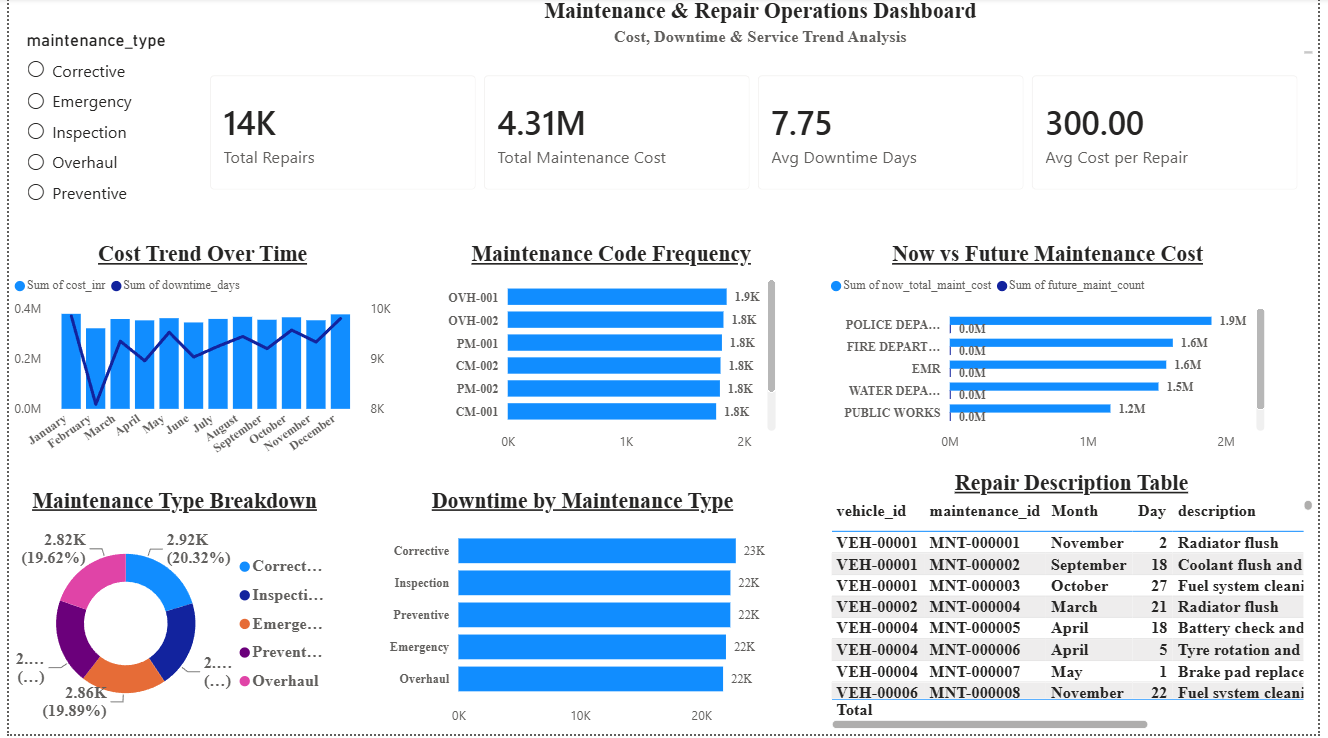

What the dashboard file says about the page in this screenshot:
{"tool":"powerbi","page":{"name":"mainteance","canvas":[1280,720],"ordinal":3},"visuals":[{"type":"donutChart","title":"Maintenance Type Breakdown","fields":{"Category":["maintenance_records.maintenance_type"],"Y":["CountNonNull(maintenance_records.maintenance_id)"]},"box":[0,478.9,323.8,241.5],"z":0},{"type":"lineClusteredColumnComboChart","title":"Cost Trend Over Time","fields":{"Category":["maintenance_records.maintenance_date.Variation.Date Hierarchy.Month"],"Y":["Sum(maintenance_records.cost_inr)"],"Y2":["Sum(maintenance_records.downtime_days)"]},"box":[0,238.8,378.7,223.7],"z":1000},{"type":"barChart","title":"Maintenance Code Frequency","fields":{"Category":["maintenance_records.maintenance_code"],"Y":["CountNonNull(maintenance_records.maintenance_id)"]},"box":[422.6,238.8,332.1,214.1],"z":2000},{"type":"clusteredBarChart","title":"Now vs Future Maintenance Cost","fields":{"Y":["Sum(maintenance_records.now_total_maint_cost)","Sum(maintenance_records.future_maint_count)"],"Category":["vehicles.department"]},"box":[798.6,238.8,435,214.1],"z":3000},{"type":"barChart","title":"Downtime by Maintenance Type","fields":{"Y":["Sum(maintenance_records.downtime_days)"],"Category":["maintenance_records.maintenance_type"]},"box":[366.4,478.9,388.3,241.5],"z":4000},{"type":"tableEx","title":"Repair Description Table","fields":{"Values":["maintenance_records.vehicle_id","maintenance_records.maintenance_id","maintenance_records.maintenance_date.Variation.Date Hierarchy.Month","maintenance_records.maintenance_date.Variation.Date Hierarchy.Day","maintenance_records.description","Sum(maintenance_records.cost_inr)"]},"box":[798.6,462.4,481.6,258],"z":5000},{"type":"textbox","title":" Maintenance & Repair Operations Dashboard","box":[189.4,0,1090.9,59],"z":6000},{"type":"cardVisual","fields":{"Data":["maintenance_records.Total Repairs","maintenance_records.Total Maintenance Cost","maintenance_records.Avg Downtime Days","maintenance_records.Avg Cost per Repair"]},"box":[179.8,59,1100.5,146.8],"z":7000},{"type":"listSlicer","fields":{"Values":["maintenance_records.maintenance_type"]},"box":[12.3,30.2,149.6,196.2],"z":7001}]}

Visuals, with their boxes in screenshot pixels (x1, y1, x2, y2), scaled from the page's 1280x720 canvas onto the 1328x738 screenshot:
"Maintenance Type Breakdown" donutChart: 0, 491, 336, 737
"Cost Trend Over Time" lineClusteredColumnComboChart: 0, 245, 393, 474
"Maintenance Code Frequency" barChart: 438, 245, 783, 464
"Now vs Future Maintenance Cost" clusteredBarChart: 829, 245, 1280, 464
"Downtime by Maintenance Type" barChart: 380, 491, 783, 737
"Repair Description Table" tableEx: 829, 474, 1327, 737
" Maintenance & Repair Operations Dashboard" textbox: 197, 0, 1327, 60
cardVisual - maintenance_records.Total Repairs x maintenance_records.Total Maintenance Cost: 187, 60, 1327, 211
listSlicer - maintenance_records.maintenance_type: 13, 31, 168, 232
